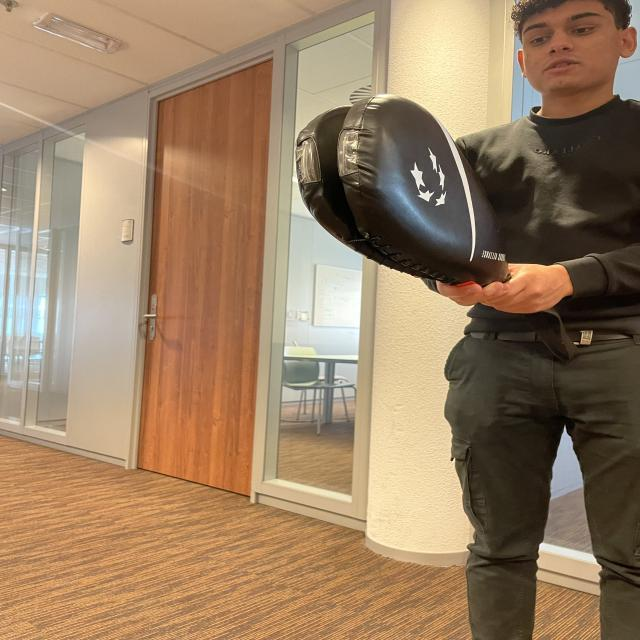paddle: (297, 94, 481, 272)
